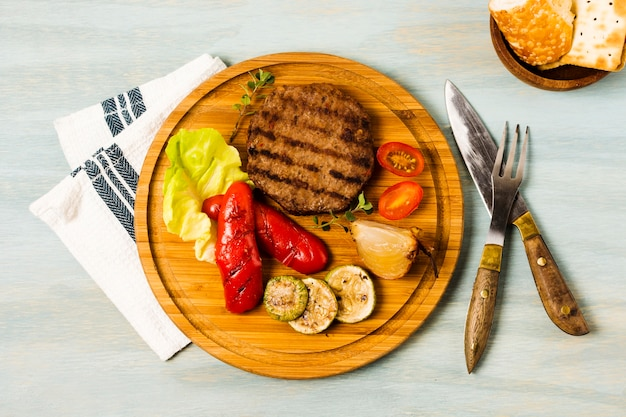knife: (443, 79, 593, 338)
